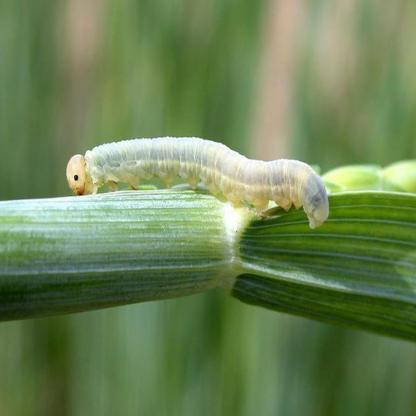sawfly: (64, 128, 328, 231)
